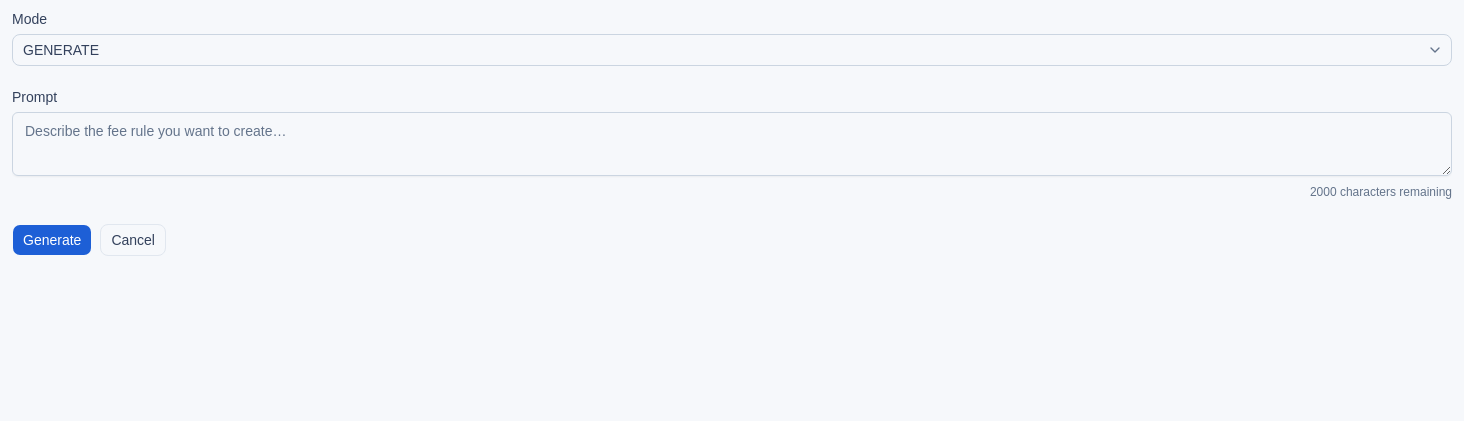
Test: PromptForm › shows RulePicker when UPDATE mode is selected
The image size is (1464, 421).
Step 1. Click the dropdown named "mode" → click(61, 50), box [12, 34, 1452, 66]
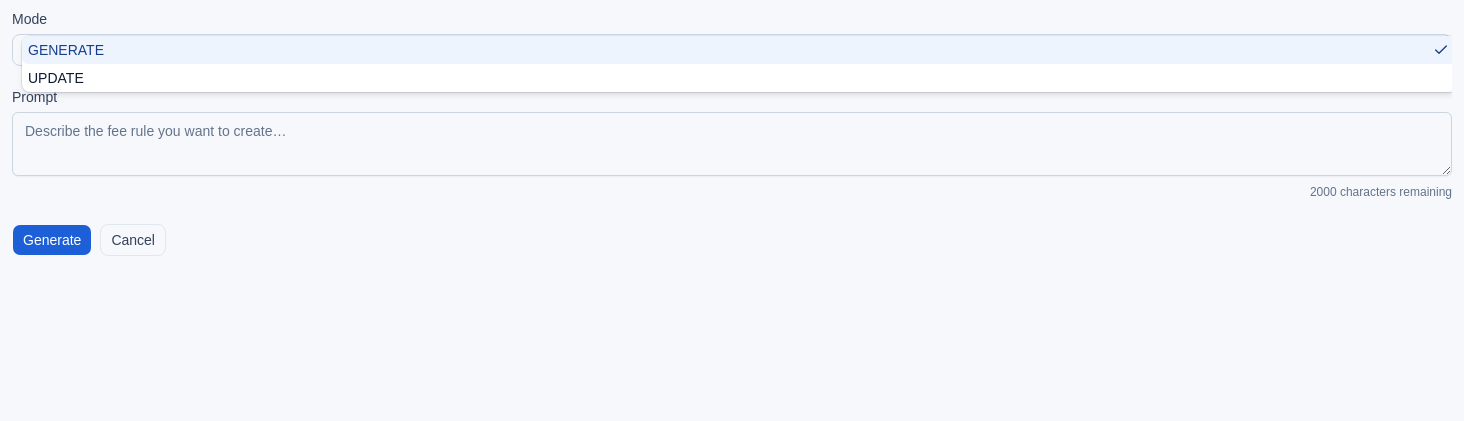
Step 2. Click the option "UPDATE" → click(56, 78), box [28, 70, 84, 86]
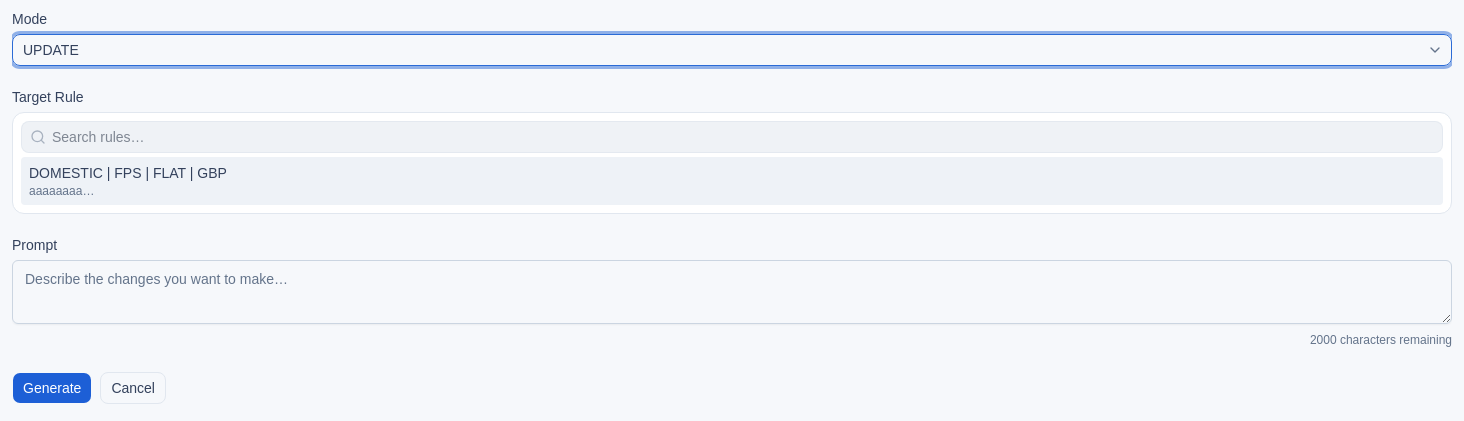
Expected: the text "Target Rule" is shown, [12, 89, 84, 105]
